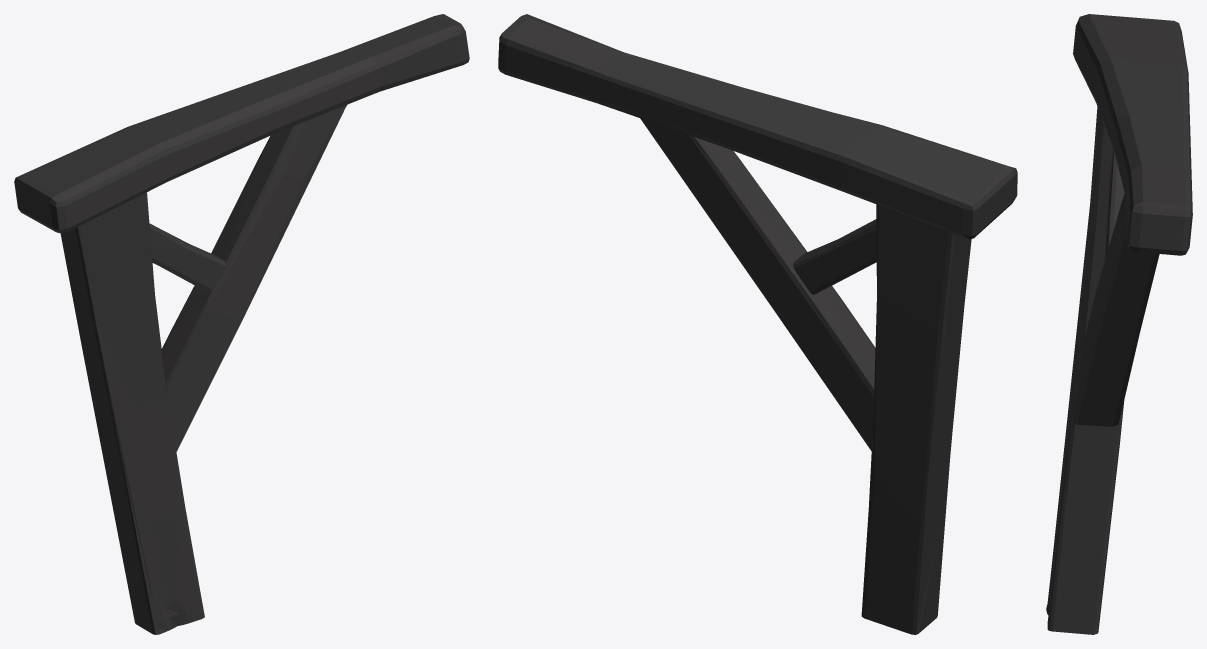
The model's file is Filler_001.fbx.
3 views of the same model, side by side, from view 1: azimuth 30°, elevation 25°; view 2: azimuth 150°, elevation 25°; view 3: azimuth 270°, elevation 25° (orthographic). The views are drawn at different scales.
Parts seen in each view (by area): view 1: Filler_001; view 2: Filler_001; view 3: Filler_001.
Boxes of the visible parts, box(x1,y1,x2,y2) form: Filler_001: box(14, 14, 469, 634); Filler_001: box(498, 14, 1017, 634); Filler_001: box(1046, 14, 1192, 634).
Size of the model in its own units: 3.45 by 3.77 by 0.8222.
